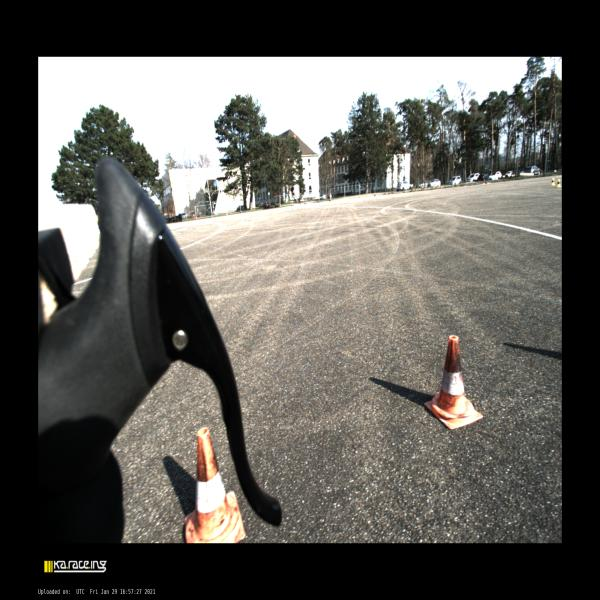orange_cone: (184, 428, 247, 544), (425, 334, 483, 429)
